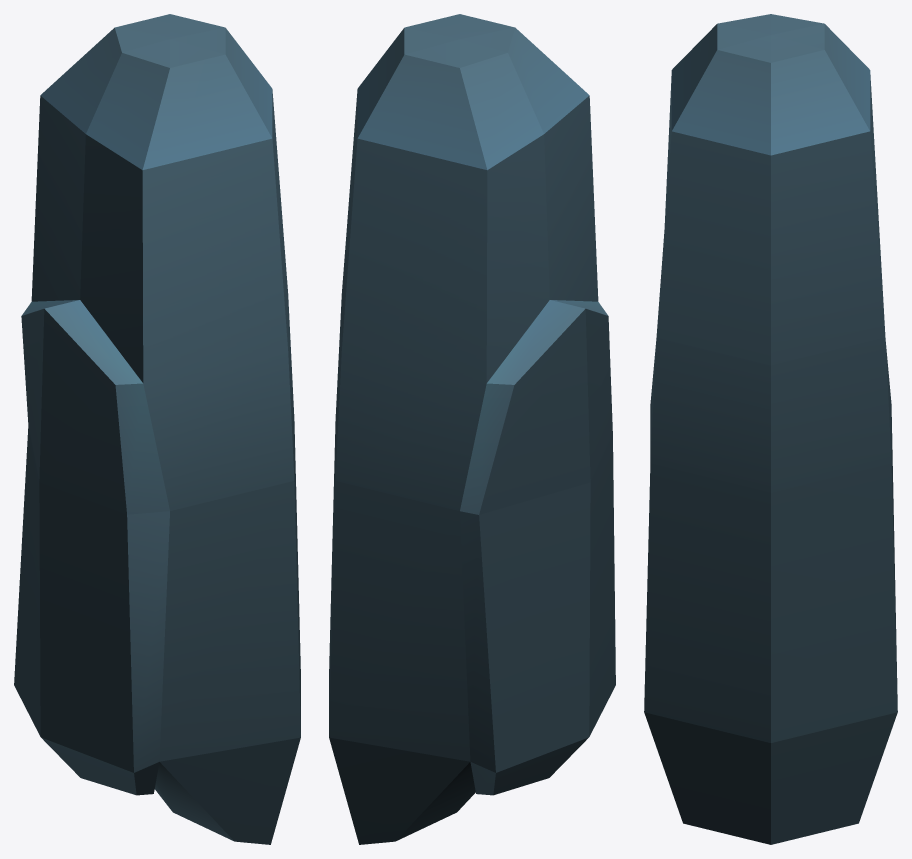
Rendered from geology-crystals-calcitecrystal_v1.fbx.
3 views of the same model, side by side, from view 1: azimuth 30°, elevation 25°; view 2: azimuth 150°, elevation 25°; view 3: azimuth 270°, elevation 25° (orthographic). The views are drawn at different scales.
Visible parts, largest first — view 1: CalciteCrystal_v1; view 2: CalciteCrystal_v1; view 3: CalciteCrystal_v1.
Boxes of the visible parts, x1=… form: CalciteCrystal_v1: x1=14, y1=14, x2=300, y2=844; CalciteCrystal_v1: x1=329, y1=14, x2=615, y2=844; CalciteCrystal_v1: x1=644, y1=14, x2=897, y2=844.
Size of the model in its own units: 2.21 by 6.36 by 1.92.
